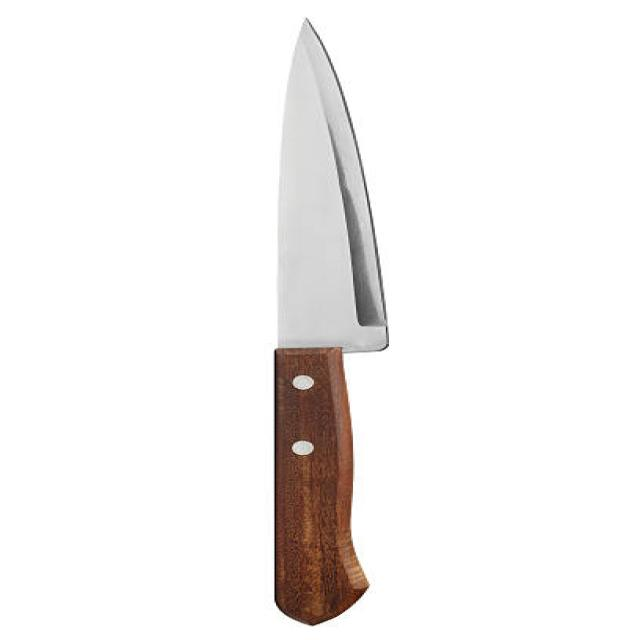knife: (238, 2, 436, 631)
